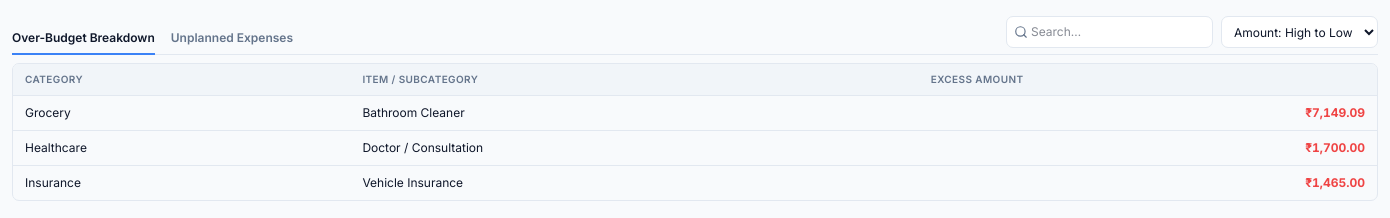
Test case: BudgetFlagsTableInner › search › hides the search/sort controls entirely when a tab has no rows to search
Click the tab "Unplanned Expenses".
click(232, 39)  # box [171,23,293,55]
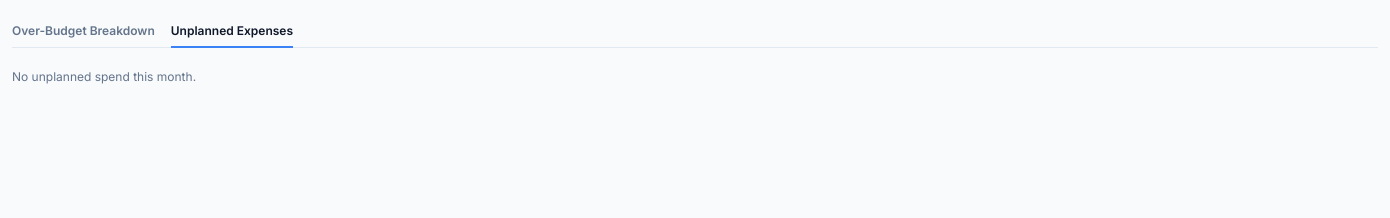
Now the dropdown labelled "Sort" is gone
